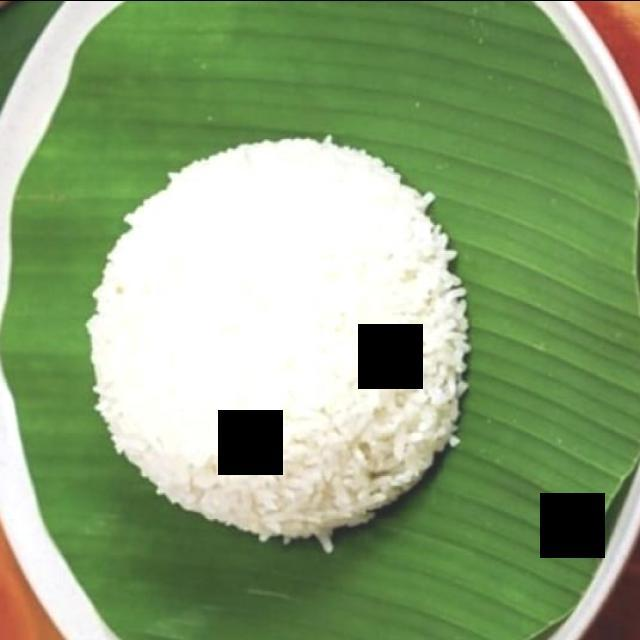rice: (86, 137, 468, 539)
